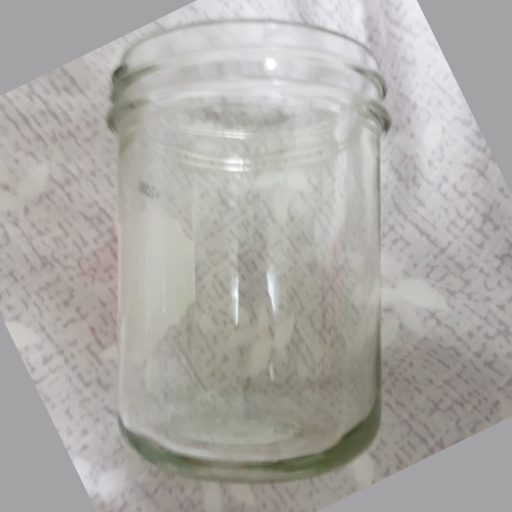Glass_5: (106, 20, 387, 480)
